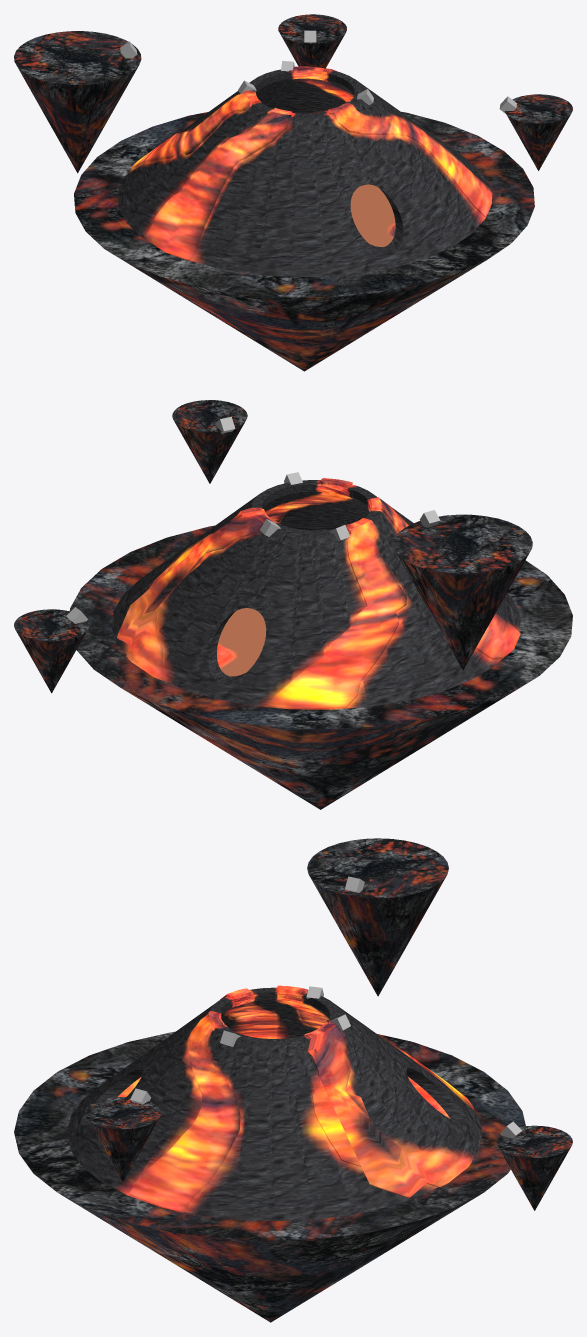
Rendered from Volcano Map - Copy (2).fbx.
3 renders of one model, top to bottom at view 1: azimuth 30°, elevation 25°; view 2: azimuth 150°, elevation 25°; view 3: azimuth 270°, elevation 25°, orthographic. The views are drawn at different scales.
Parts seen in each view (by area): view 1: Volcano, Ground, Cone_002, Outer3, Outer1, Cone_001, Cone, Outer4, Outer2; view 2: Volcano, Ground, Cone_002, Outer4, Outer2, Cone, Cone_001, Outer3, Outer1; view 3: Volcano, Ground, Cone_002, Outer1, Outer2, Cone_001, Cone, Outer3, Outer4.
Boxes of the visible parts, box(x1,y1,x2,y2) form: Volcano: box(118, 69, 490, 277); Ground: box(74, 111, 534, 371); Cone_002: box(14, 31, 141, 173); Outer3: box(144, 108, 292, 261); Outer1: box(320, 101, 492, 217); Cone_001: box(504, 94, 572, 170); Cone: box(278, 14, 346, 68); Outer4: box(131, 90, 262, 169); Outer2: box(288, 66, 353, 101); Volcano: box(112, 480, 520, 709); Ground: box(69, 525, 572, 809); Cone_002: box(393, 514, 532, 670); Outer4: box(267, 517, 406, 709); Outer2: box(117, 508, 281, 680); Cone: box(14, 609, 89, 693); Cone_001: box(172, 400, 247, 483); Outer3: box(368, 497, 520, 665); Outer1: box(265, 478, 352, 523); Volcano: box(67, 987, 482, 1221); Ground: box(14, 1031, 525, 1322); Cone_002: box(307, 838, 448, 996); Outer1: box(129, 1011, 240, 1213); Outer2: box(304, 1020, 472, 1197); Cone_001: box(84, 1097, 160, 1181); Cone: box(496, 1125, 572, 1210); Outer3: box(220, 988, 277, 1038); Outer4: box(274, 985, 473, 1108).
Bounding box in the file's own units: 3563 × 2619 × 3579.
